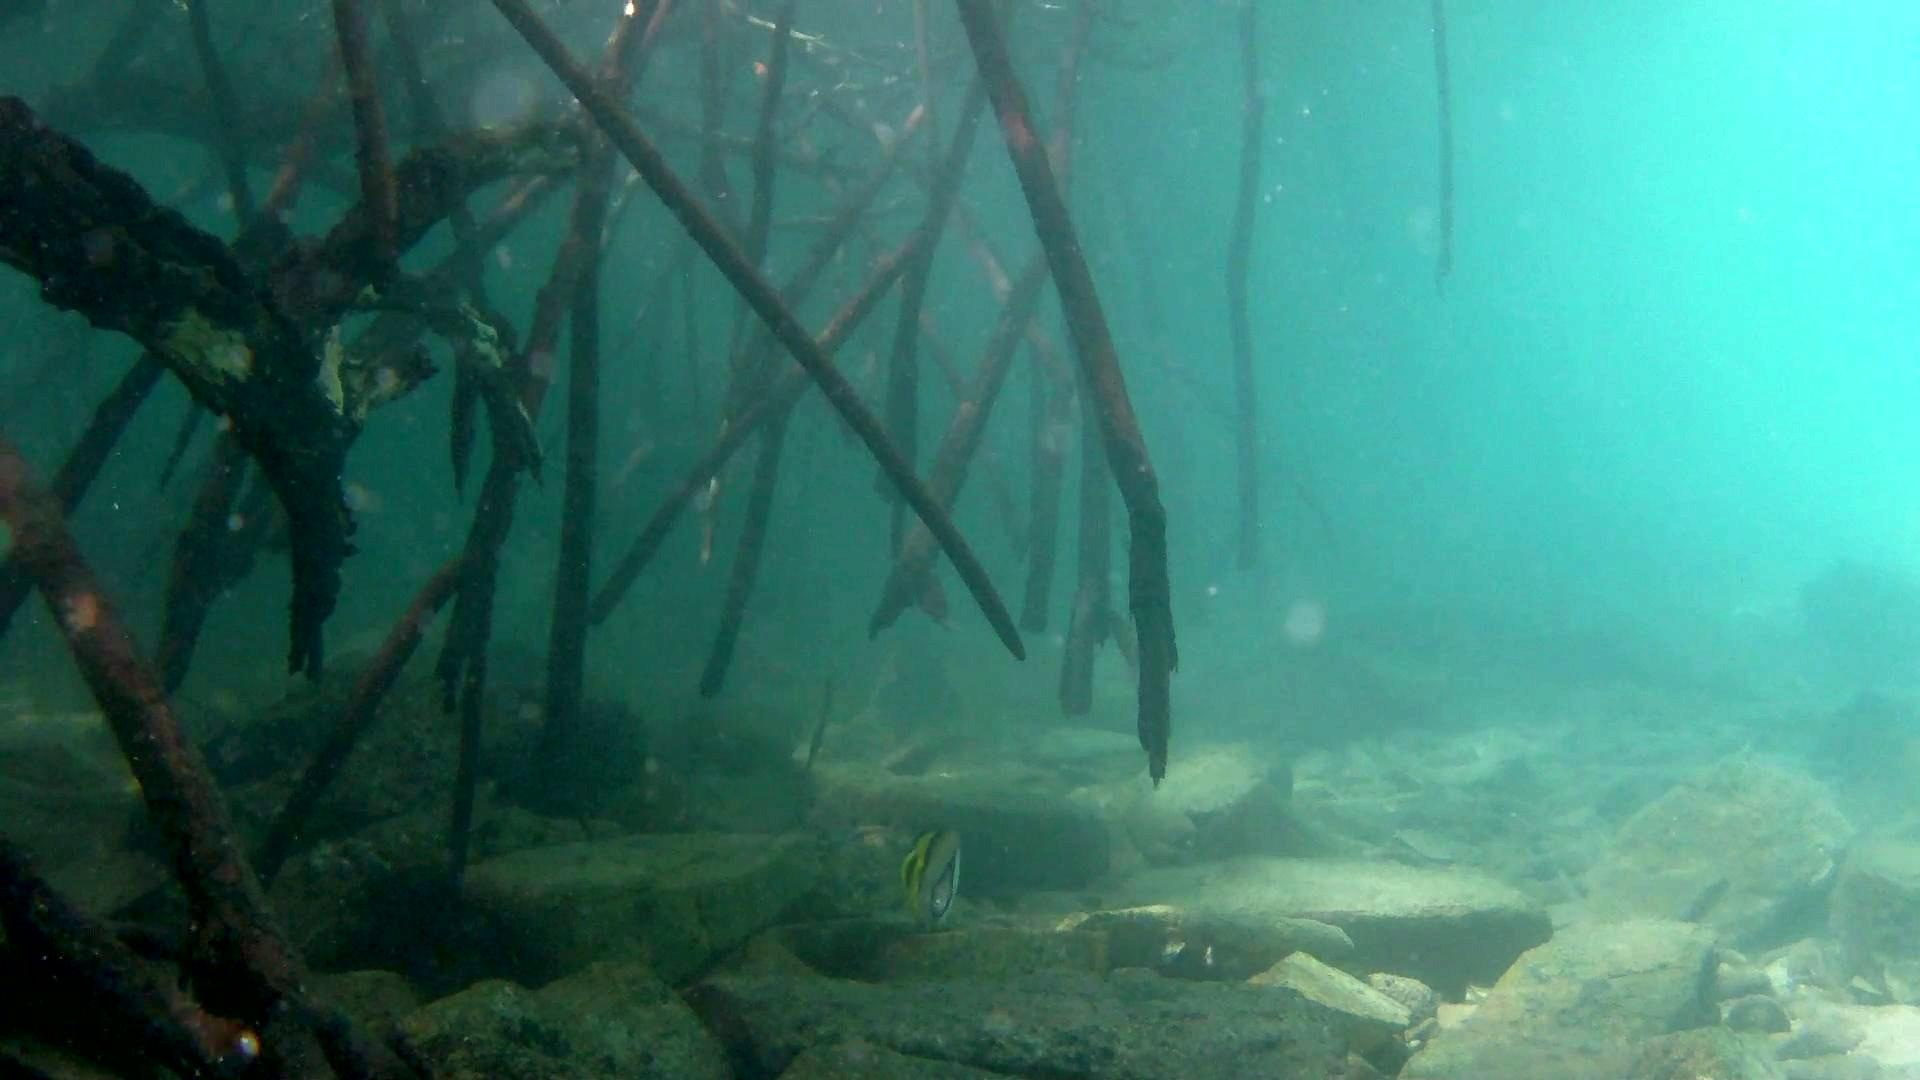chaetodon vagabundus: (896, 820, 967, 937)
